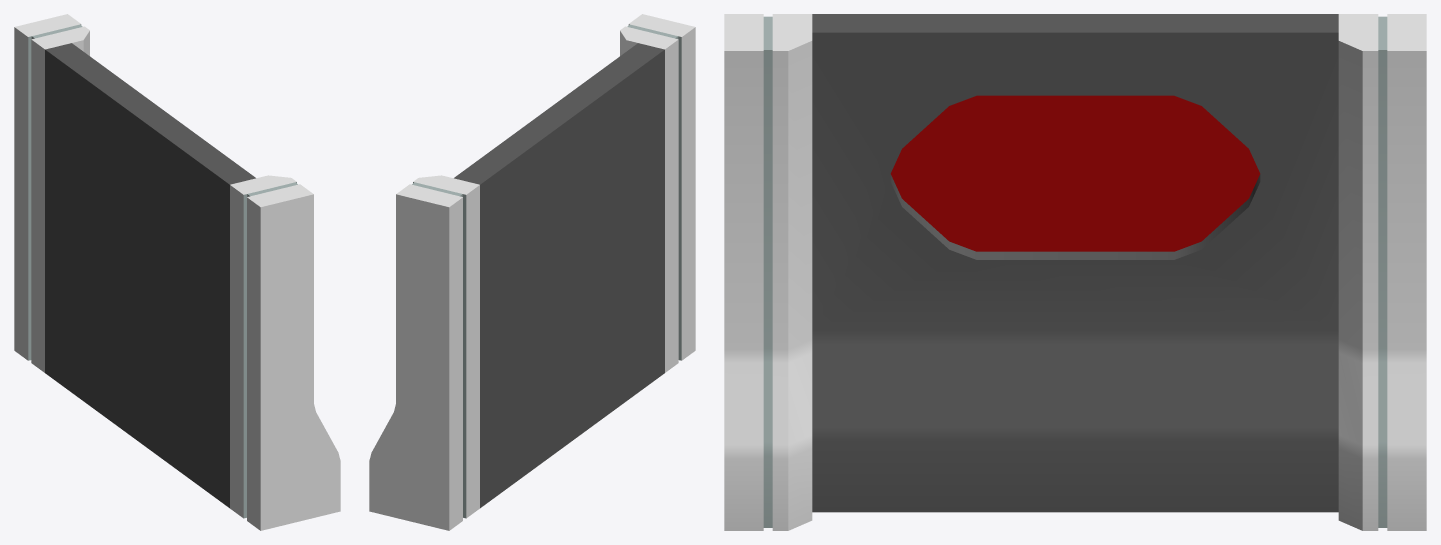
The model's file is Level2_ShortWall.fbx.
3 views of the same model, side by side, from view 1: azimuth 30°, elevation 25°; view 2: azimuth 150°, elevation 25°; view 3: azimuth 270°, elevation 25° (orthographic). The views are drawn at different scales.
Parts seen in each view (by area): view 1: Cube; view 2: Cube; view 3: Cube.
Part boxes in pixels (x1=…): Cube: x1=14, y1=14, x2=340, y2=530; Cube: x1=369, y1=14, x2=695, y2=530; Cube: x1=724, y1=14, x2=1426, y2=530.
Bounding box in the file's own units: 5.8 × 8 × 1.5.
